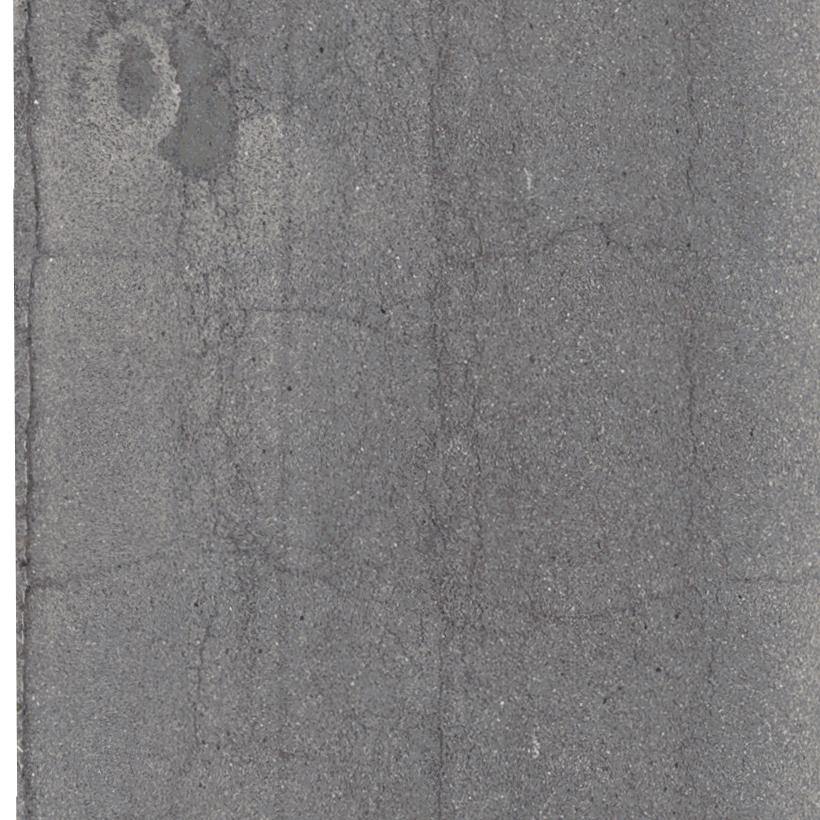GRIETA: (252, 305, 421, 355), (180, 608, 219, 772), (490, 223, 595, 258), (557, 591, 680, 620), (29, 559, 136, 590), (433, 643, 445, 819), (680, 328, 697, 449), (685, 64, 702, 184)
PARCHE: (163, 29, 236, 172), (113, 38, 160, 119)
PIEL DE COCODRILO: (414, 195, 555, 637), (169, 169, 292, 592), (369, 1, 515, 192), (292, 546, 428, 684), (595, 183, 718, 298), (674, 447, 737, 650), (235, 57, 372, 142)
